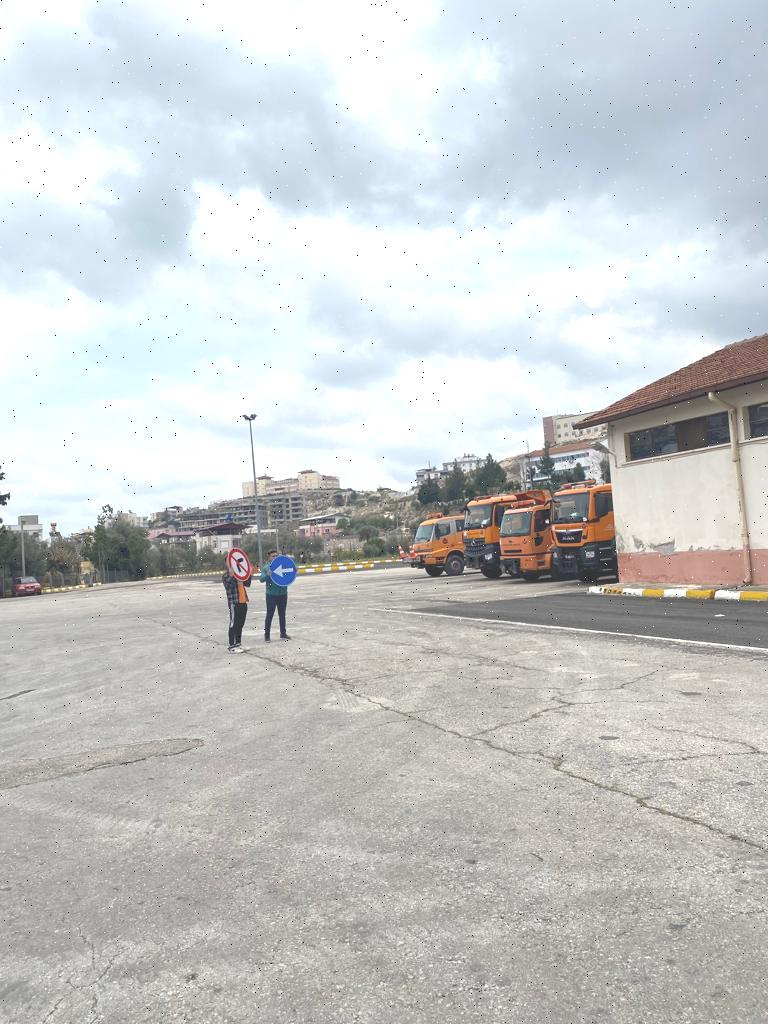rightturnsareforbidden: (228, 548, 252, 581)
turnleft: (269, 556, 297, 586)
